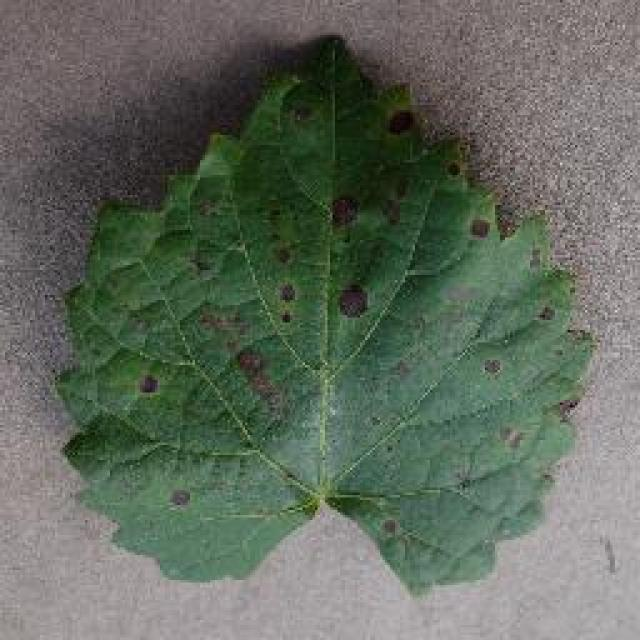Grape___Black_rot: (43, 34, 604, 602)
